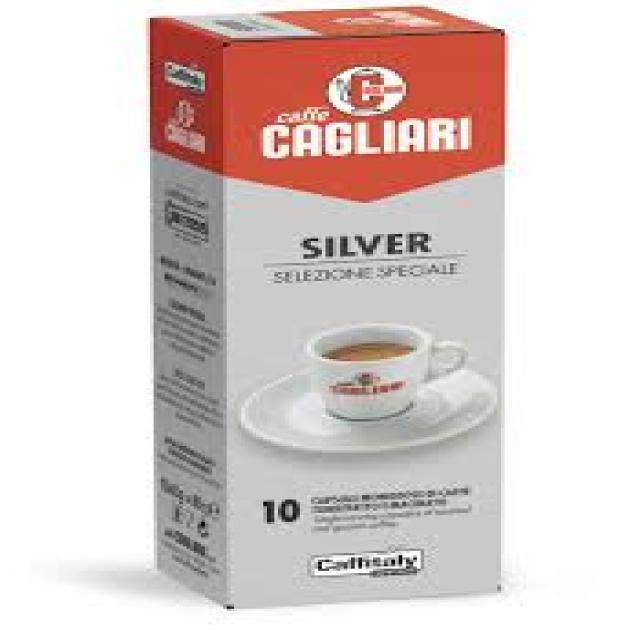coffee: (146, 9, 508, 611)
